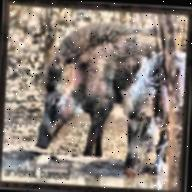boar: (30, 20, 143, 169), (109, 42, 191, 185)
